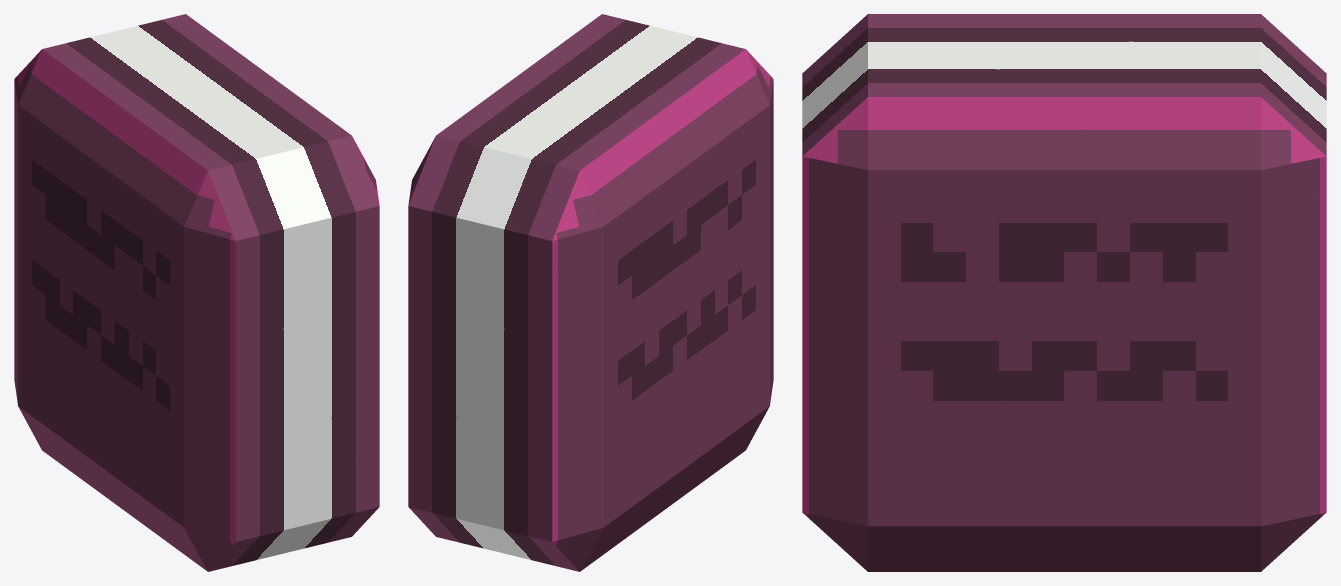
The model's file is JStore_Pink.obj.
The picture shows the model from 3 angles, left to right: view 1: azimuth 30°, elevation 25°; view 2: azimuth 150°, elevation 25°; view 3: azimuth 270°, elevation 25°; orthographic projection. The views are drawn at different scales.
Parts seen in each view (by area): view 1: JStore_Pink; view 2: JStore_Pink; view 3: JStore_Pink.
Boxes of the visible parts, x1=… form: JStore_Pink: x1=14, y1=14, x2=379, y2=571; JStore_Pink: x1=408, y1=14, x2=773, y2=571; JStore_Pink: x1=802, y1=14, x2=1326, y2=571.
Bounding box in the file's own units: 0.25 × 0.5 × 0.5.
Materials: 1 (1 with a texture image).
